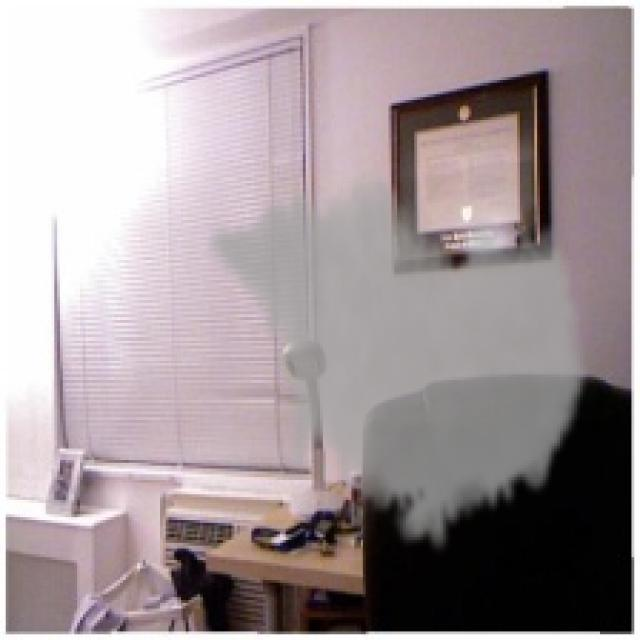smoke: (206, 160, 591, 557)
